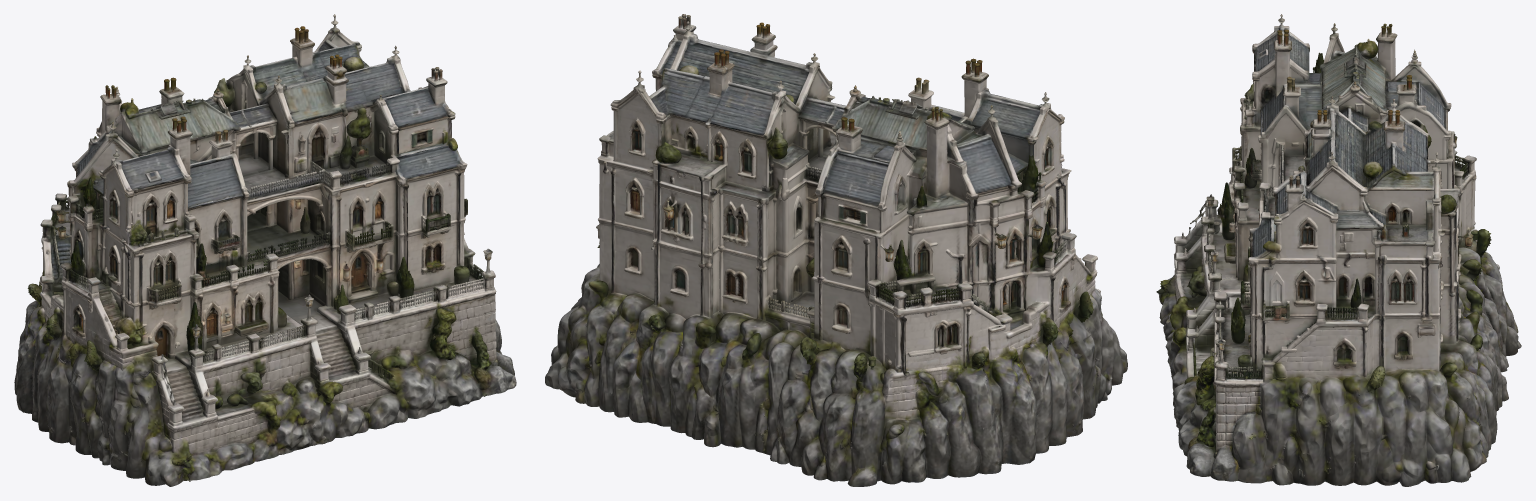
File: castle_mansion.glb
The picture shows the model from 3 angles, left to right: view 1: azimuth 30°, elevation 25°; view 2: azimuth 150°, elevation 25°; view 3: azimuth 270°, elevation 25°; orthographic projection. The views are drawn at different scales.
Bounding box in the file's own units: 0.9812 × 0.68 × 0.7284.
Materials: 1 (1 with a texture image).
